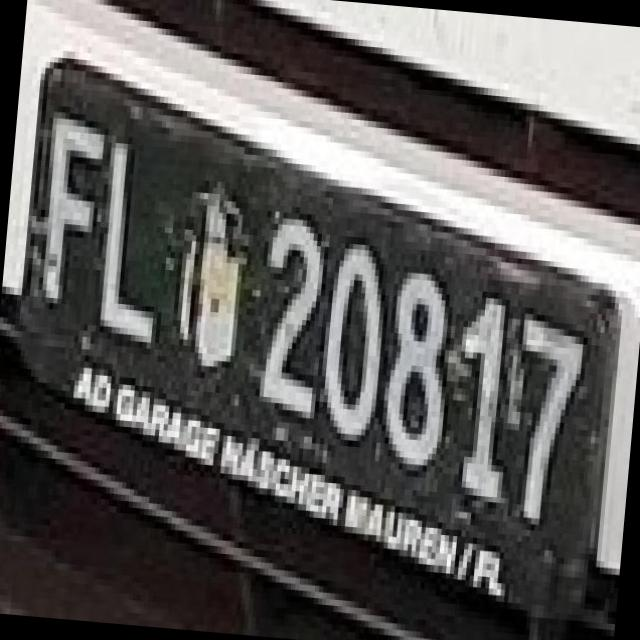0: (300, 215, 395, 436)
1: (432, 269, 524, 496)
2: (233, 190, 341, 419)
7: (490, 287, 600, 522)
8: (366, 246, 462, 473)
F: (13, 91, 112, 294)
L: (78, 122, 181, 350)
